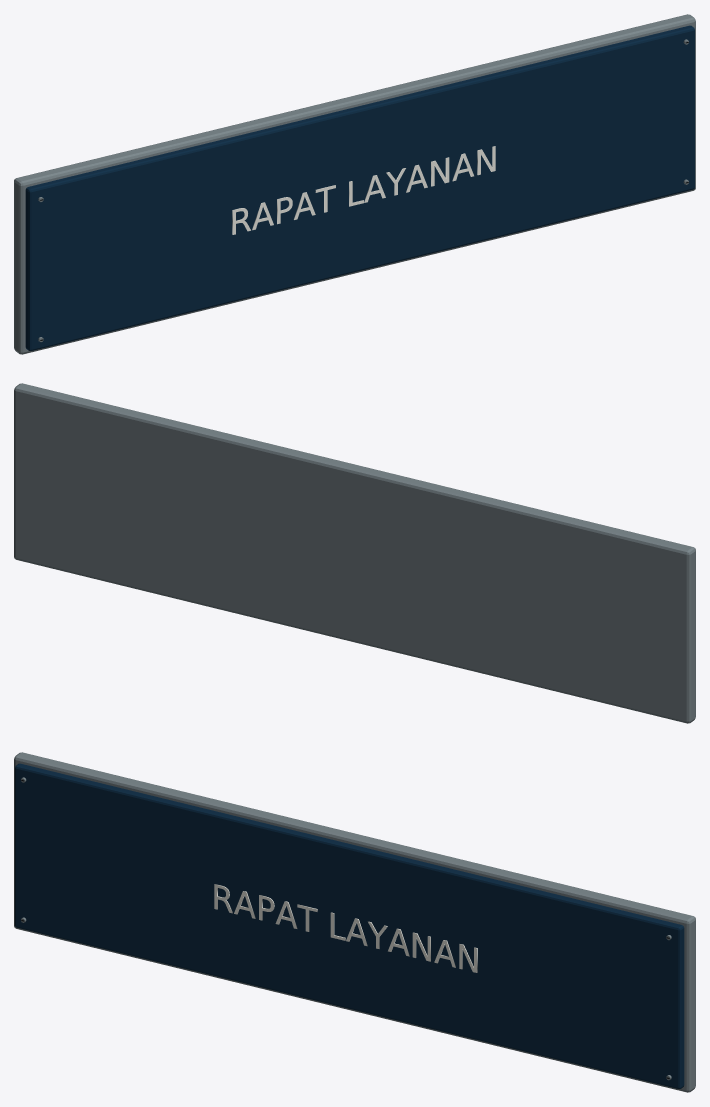
Rendered from OAA_Papan_Ruang_Rapat_Layanan.fbx.
3 renders of one model, top to bottom at view 1: azimuth 30°, elevation 25°; view 2: azimuth 150°, elevation 25°; view 3: azimuth 330°, elevation 25°, orthographic.
Parts seen in each view (by area): view 1: Body; view 2: Body; view 3: Body.
Boxes of the visible parts, x1,y1,x2,y2 form: Body: (14,14,695,354); Body: (14,383,695,723); Body: (14,752,695,1092).
Bounding box in the file's own units: 0.9 × 0.22 × 0.0312.
